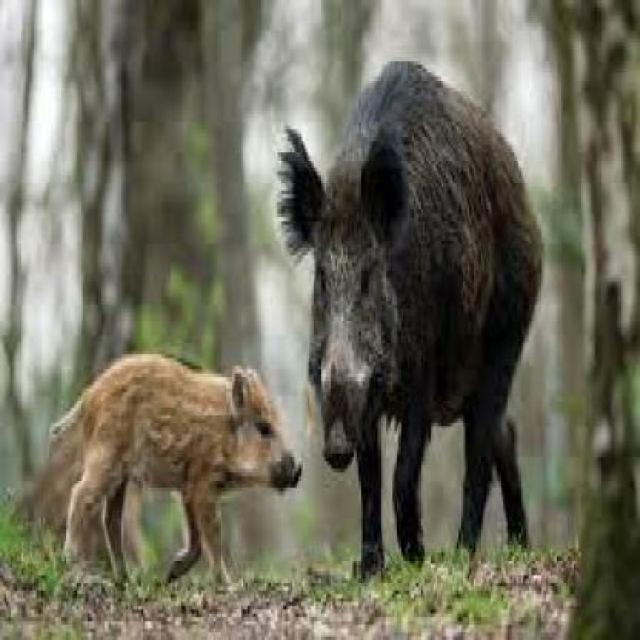wildboar: (276, 54, 553, 589), (45, 340, 312, 606)
